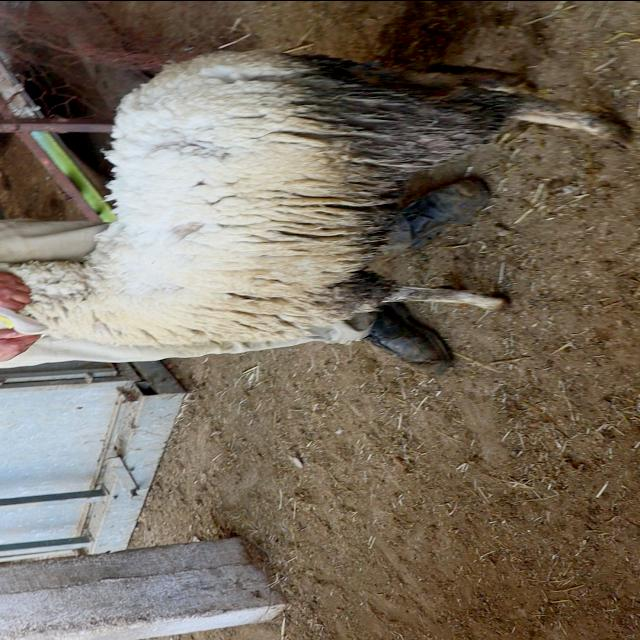Score_4: (0, 49, 627, 347)
